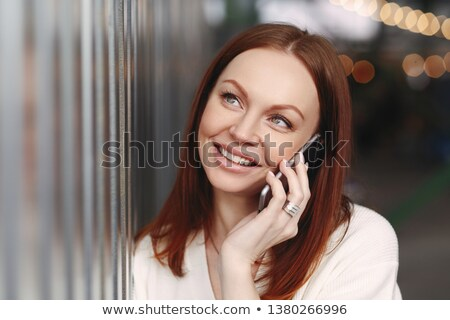phone: (256, 135, 336, 209)
talk: (198, 74, 336, 261)
